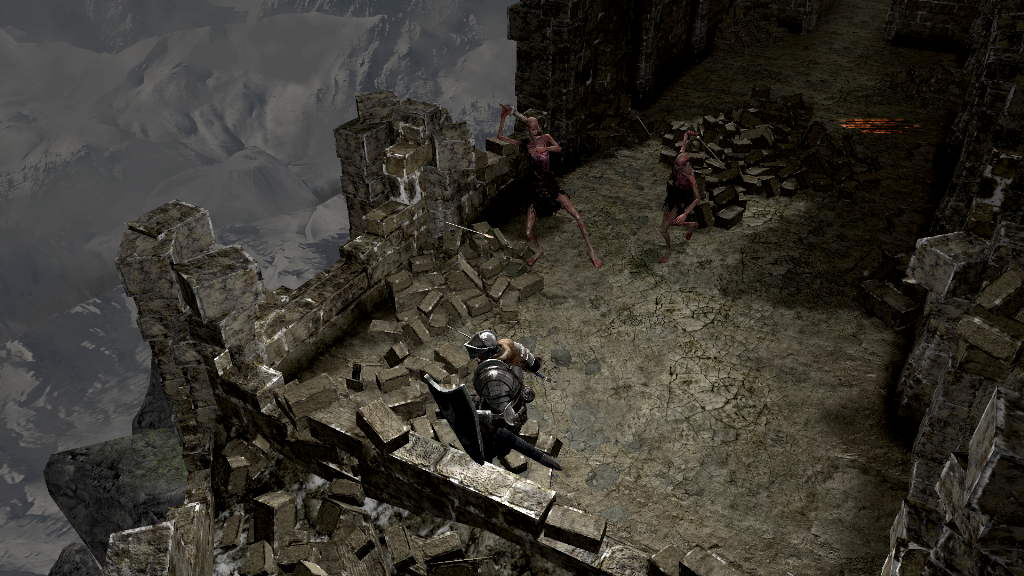hollow: (496, 104, 603, 268), (658, 130, 701, 264)
player: (421, 324, 565, 476)
